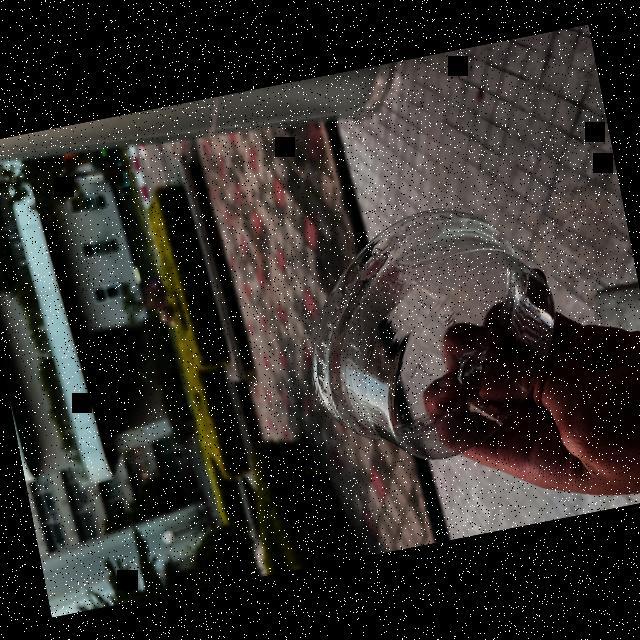plastic_cup_lid: (284, 186, 582, 482)
